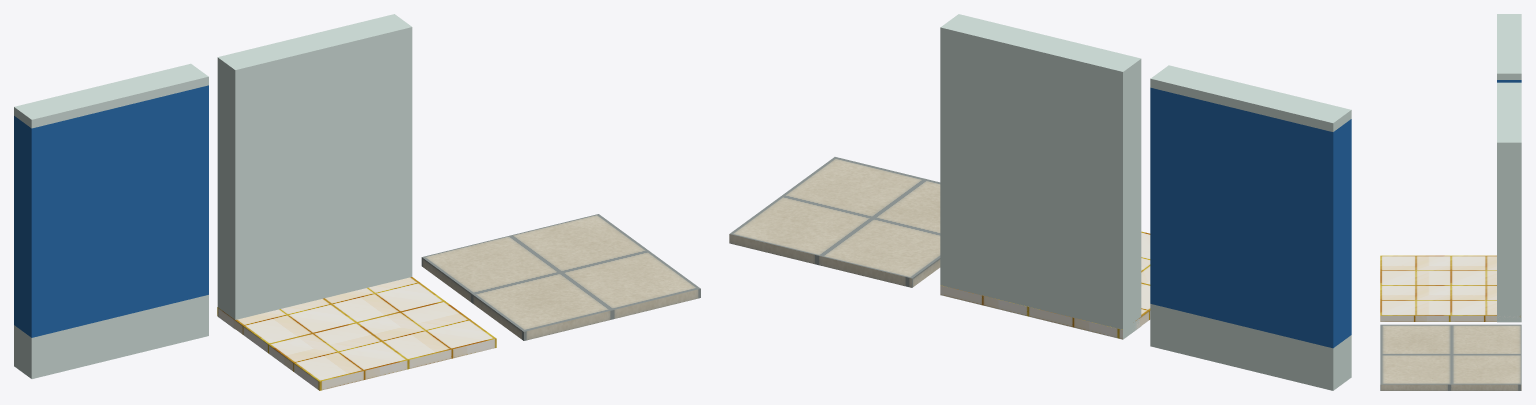
The model's file is Tileset.glb.
The picture shows the model from 3 angles, left to right: view 1: azimuth 30°, elevation 25°; view 2: azimuth 150°, elevation 25°; view 3: azimuth 270°, elevation 25°; orthographic projection. The views are drawn at different scales.
Visible parts, largest first — view 1: Wall.001, Wall, Ceil, Floor; view 2: Wall.001, Wall, Ceil, Floor; view 3: Ceil, Floor, Wall, Wall.001.
Part boxes in pixels (x1,y1,x2,y2): Wall.001: [14, 63, 208, 378]; Wall: [217, 14, 412, 329]; Ceil: [421, 214, 700, 340]; Floor: [217, 277, 496, 390]; Wall.001: [1150, 65, 1351, 390]; Wall: [940, 14, 1141, 339]; Ceil: [729, 157, 940, 287]; Floor: [940, 231, 1150, 339]; Ceil: [1380, 324, 1521, 390]; Floor: [1380, 255, 1521, 321]; Wall: [1497, 82, 1521, 322]; Wall.001: [1497, 14, 1521, 82].
Bounding box in the file's own units: 3.3 × 1.4 × 1.
Materials: 4 (2 with a texture image).
